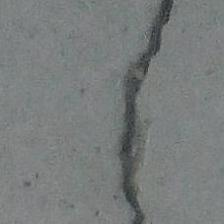Crack: (98, 0, 200, 224)
